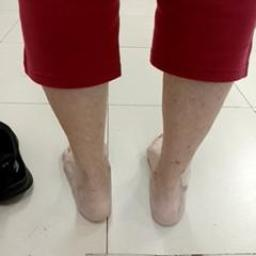Back View -Both Feet-: (48, 114, 222, 239)
